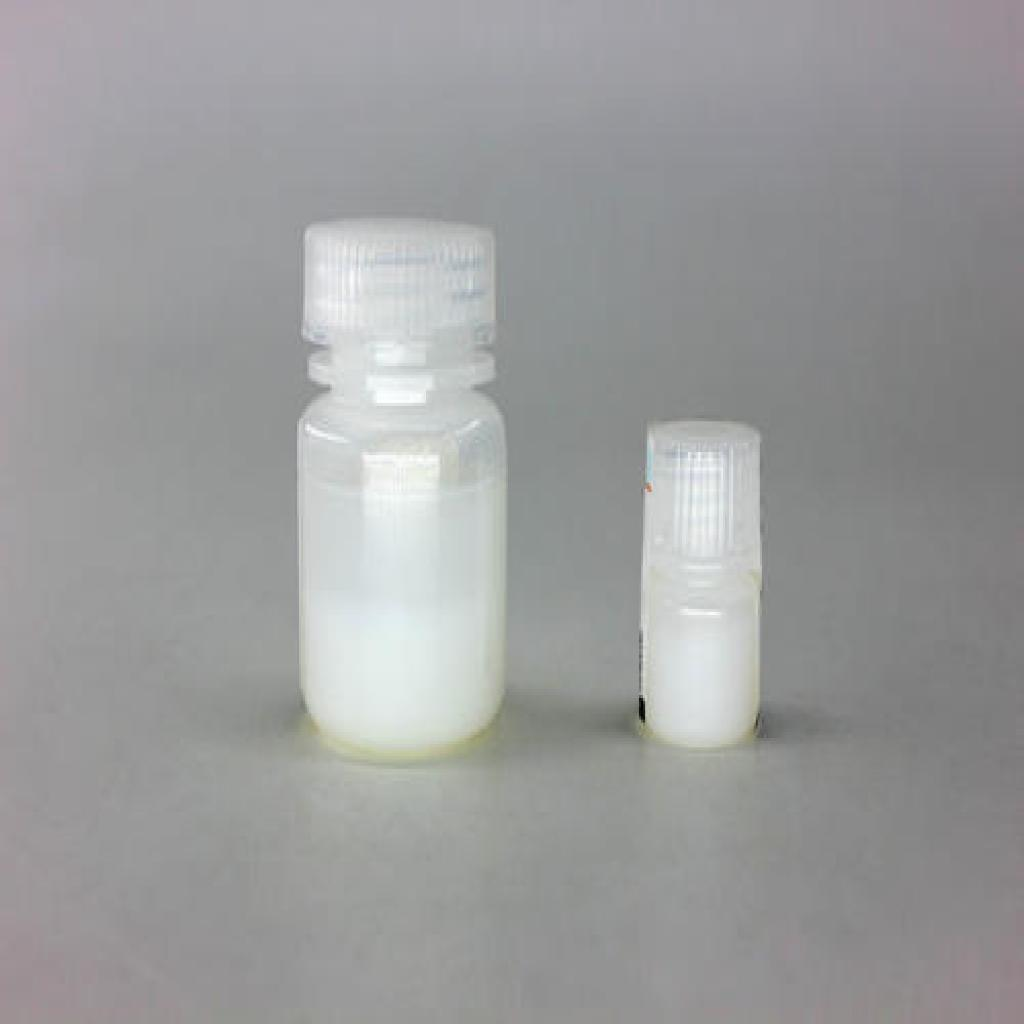plastic: (268, 188, 531, 775), (617, 399, 788, 775)
